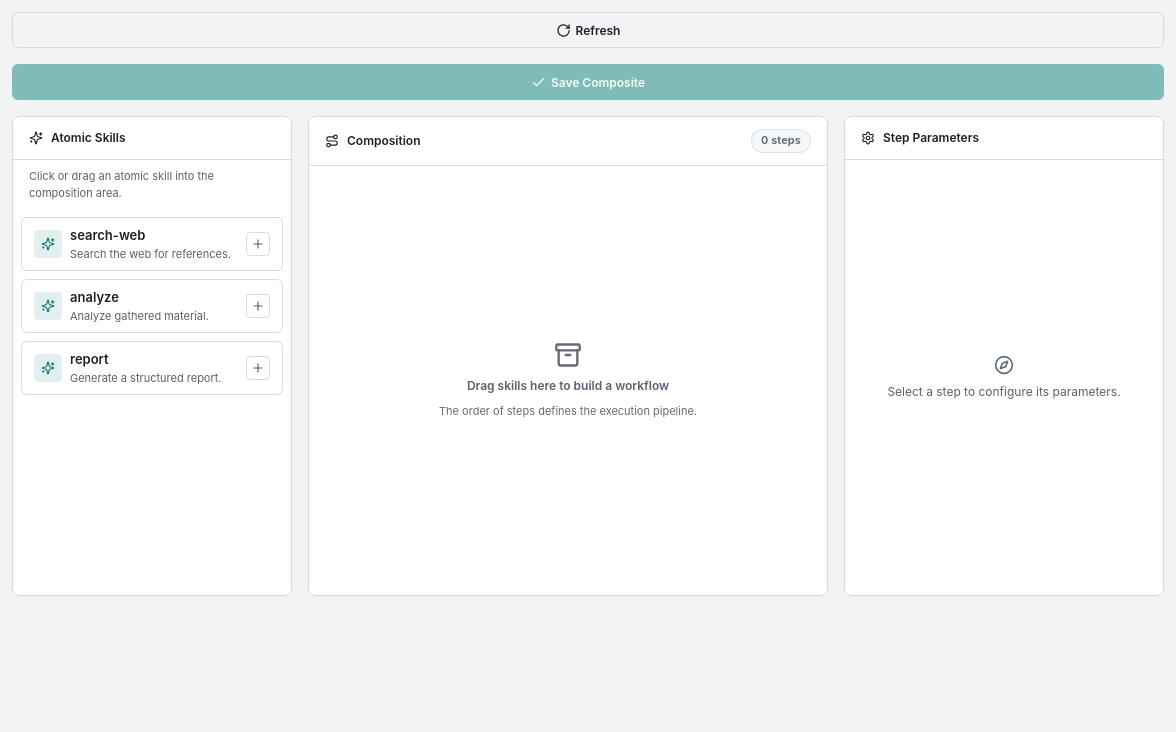
Test: SkillEditor.vue › adds a step to the composition when an atom card is clicked
Click the list item with class "atom-card" that starts with "search-web". click: [152, 244]
box: [21,217,283,271]
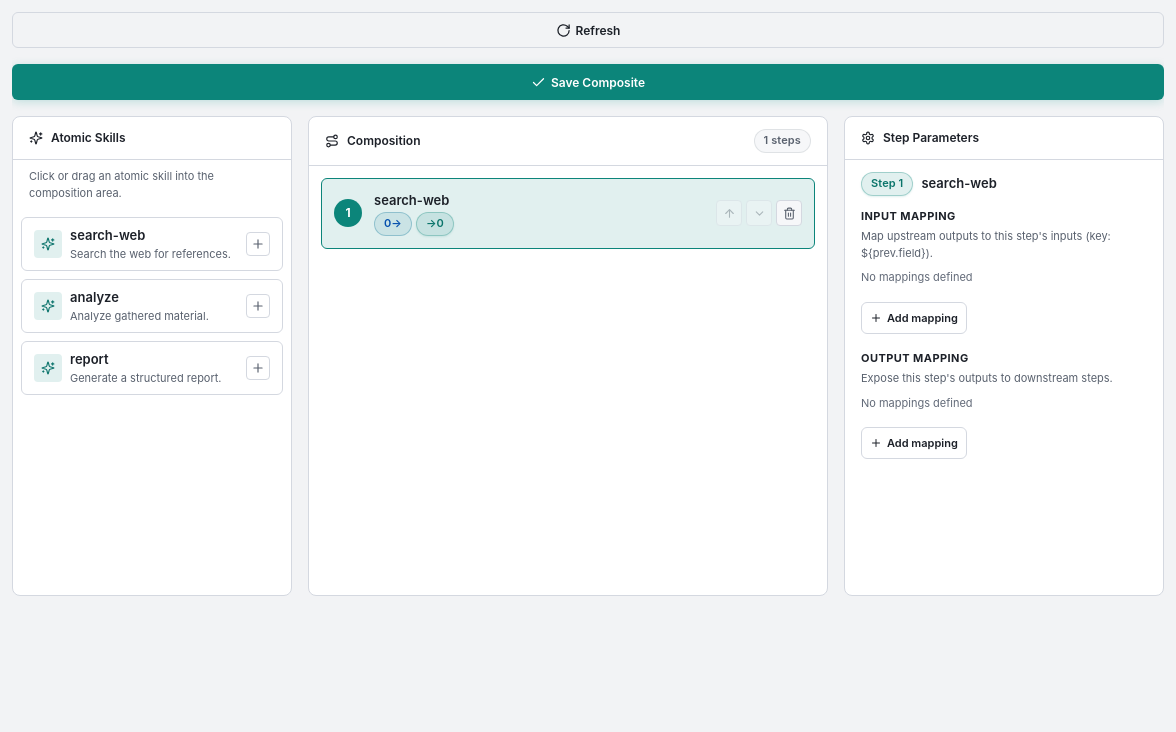
Expected: the text "search-web" is shown, [70,227,145,243]
Expected: the number of list items with class "step-item" is 1, [321,178,815,249]
